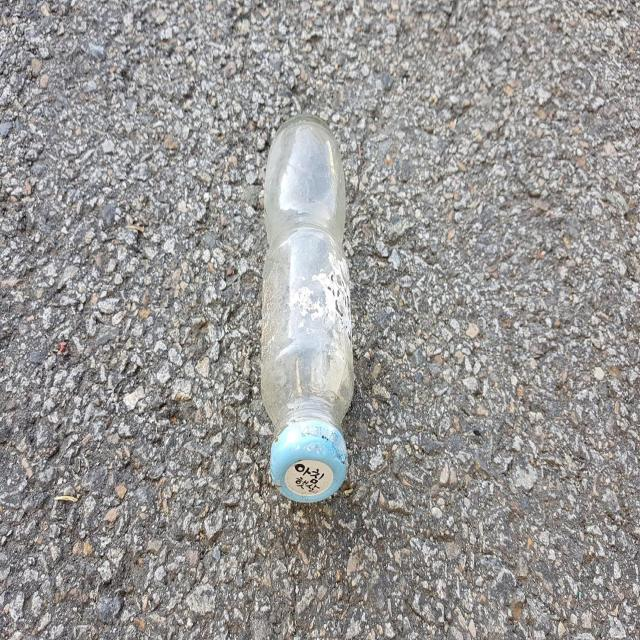glass: (261, 114, 354, 503)
